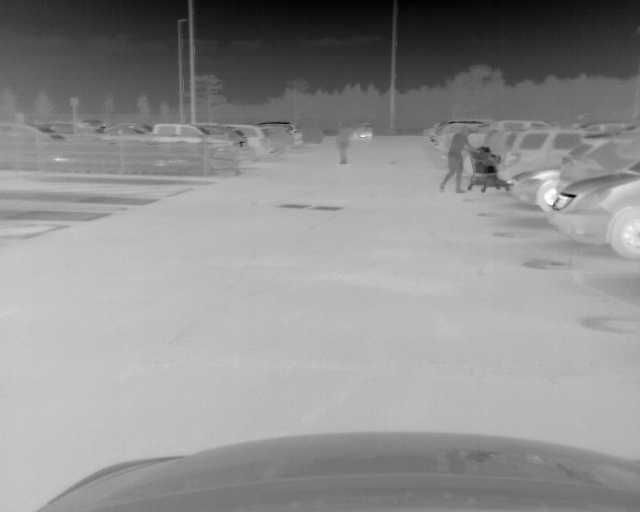car: (551, 156, 640, 260), (150, 121, 253, 171), (553, 134, 640, 188), (497, 130, 580, 175), (465, 116, 552, 148), (1, 124, 68, 164), (234, 122, 294, 162), (515, 164, 562, 210), (428, 117, 496, 148), (347, 122, 375, 140)
people: (438, 126, 471, 196), (335, 127, 351, 163)
